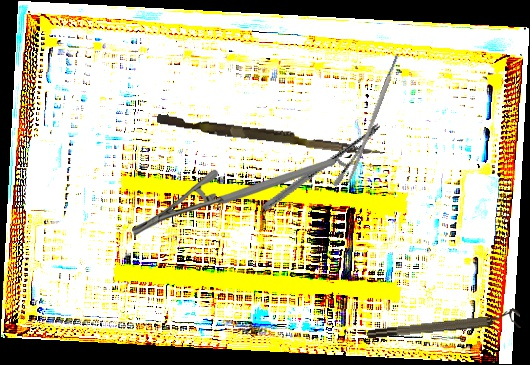Fixation Ring: (366, 307, 522, 342)
Needle Holder: (261, 93, 382, 241), (132, 159, 335, 236)
Pusher: (155, 114, 385, 157)
Scalpel Handle: (346, 53, 401, 185)
